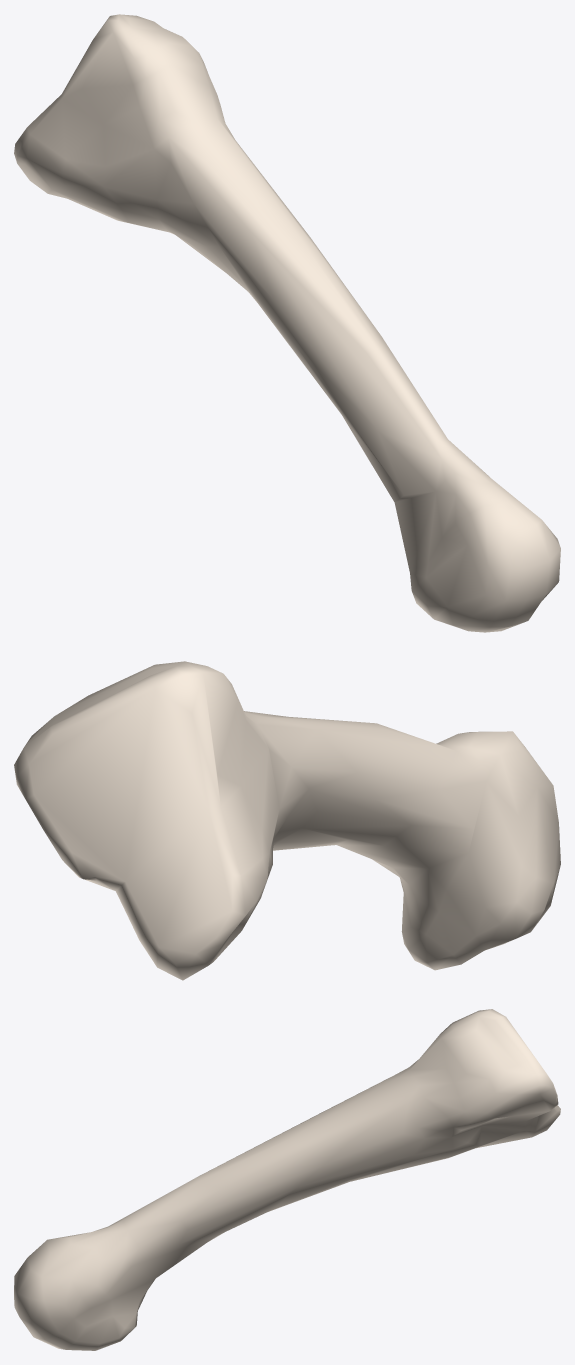
File: left_metatarsal_3.glb
3 views of the same model, one above another, from view 1: azimuth 30°, elevation 25°; view 2: azimuth 150°, elevation 25°; view 3: azimuth 270°, elevation 25° (orthographic). The views are drawn at different scales.
Visible parts, largest first — view 1: Third metatarsal bone.r; view 2: Third metatarsal bone.r; view 3: Third metatarsal bone.r.
Part boxes in pixels (x1=…): Third metatarsal bone.r: x1=14, y1=14, x2=560, y2=632; Third metatarsal bone.r: x1=14, y1=661, x2=560, y2=980; Third metatarsal bone.r: x1=14, y1=1009, x2=560, y2=1350.
Size of the model in its own units: 0.017 by 0.0328 by 0.0524.
